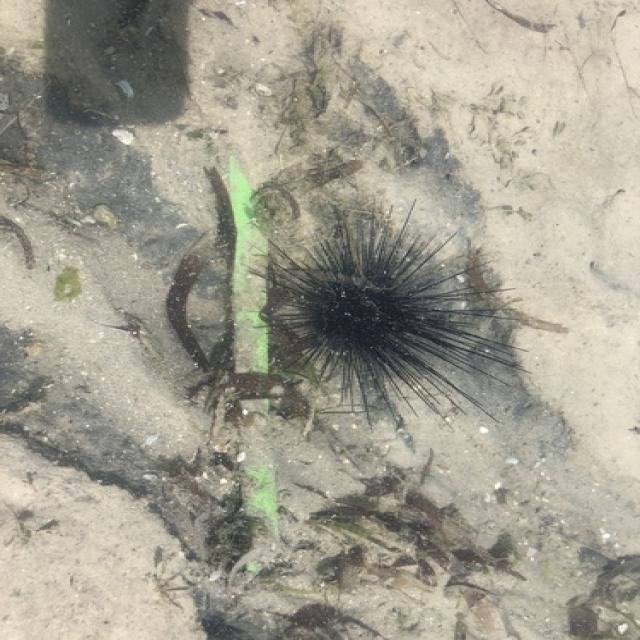Urchin: (251, 195, 534, 425)
